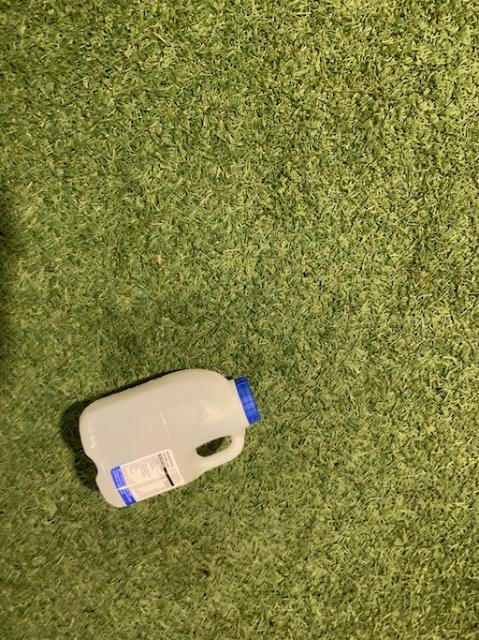plastic: (78, 368, 259, 505)
